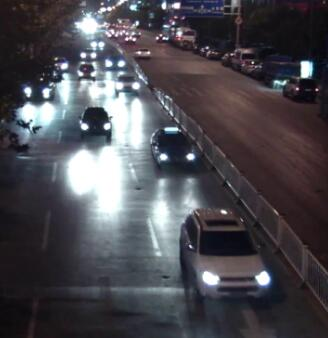bus: (169, 25, 196, 48), (161, 22, 176, 44)
car: (178, 208, 271, 305), (149, 127, 196, 170), (260, 51, 302, 88), (78, 107, 113, 142), (281, 76, 319, 103), (21, 78, 55, 102), (113, 73, 141, 97), (231, 47, 254, 69), (76, 61, 97, 83), (239, 55, 260, 74), (104, 53, 126, 71), (51, 55, 69, 74), (79, 45, 98, 61), (88, 36, 107, 51), (133, 46, 152, 60), (201, 46, 219, 59), (219, 52, 232, 64), (123, 32, 137, 42), (155, 31, 166, 41), (107, 29, 118, 38)
